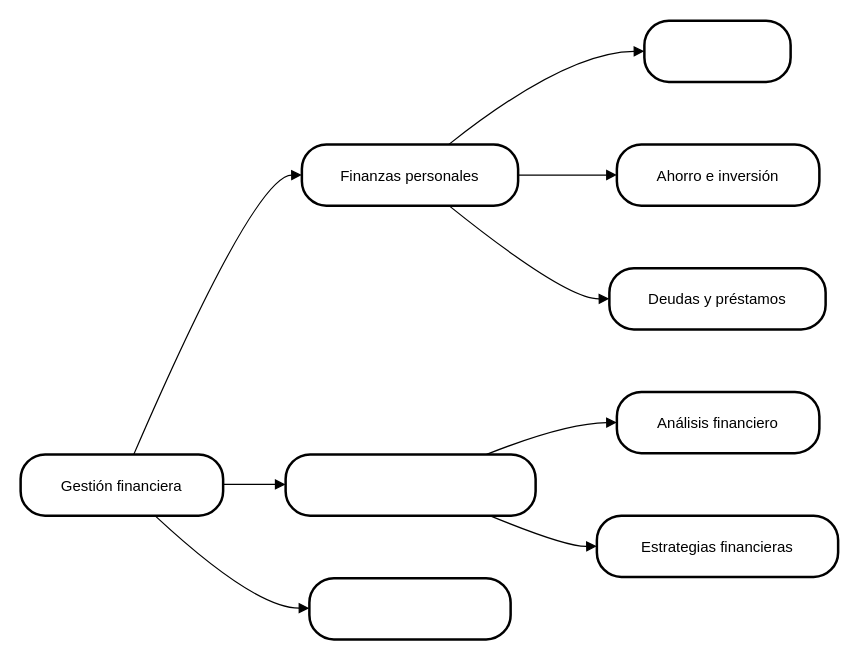
This 859x660 diagram has some shape labels left out. The centre of each missing label's shape, as x and y in pixels:
"Gestión de riesgos" belongs at [409,608].
"Planificación financiera" belongs at [410,484].
"Presupuesto" belongs at [716,50].
